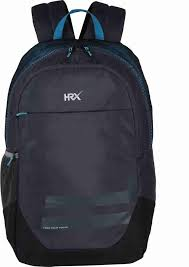backpack: (0, 0, 156, 266)
